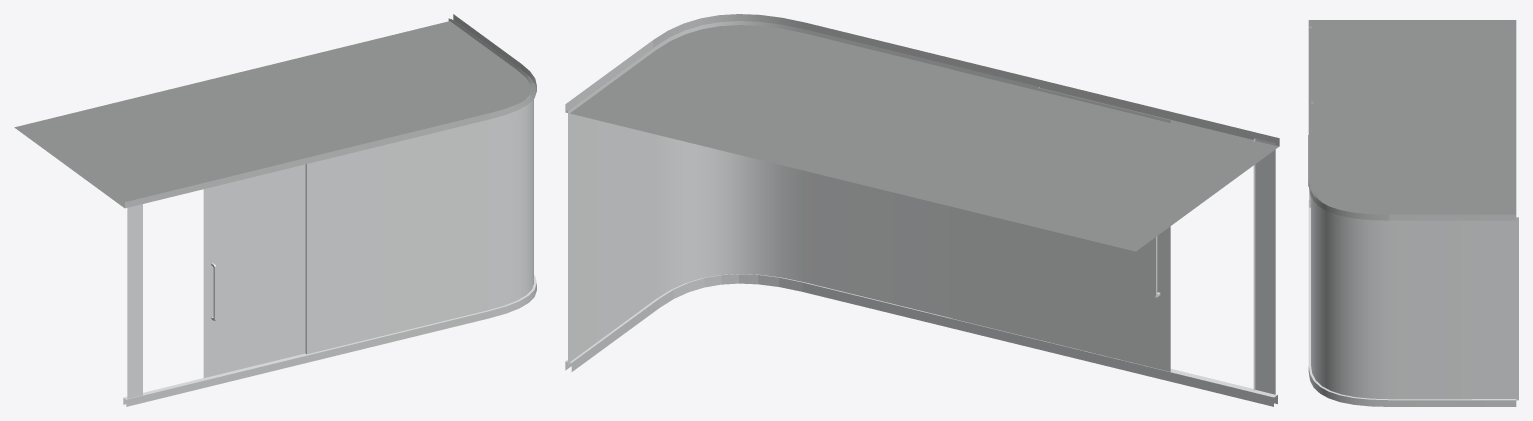
The model's file is M_bolifang01.FBX.
3 renders of one model, left to right at view 1: azimuth 30°, elevation 25°; view 2: azimuth 150°, elevation 25°; view 3: azimuth 270°, elevation 25°, orthographic. The views are drawn at different scales.
Parts seen in each view (by area): view 1: M_bolifang01_02, M_bolifang01_01; view 2: M_bolifang01_01, M_bolifang01_02; view 3: M_bolifang01_01, M_bolifang01_02.
Boxes of the visible parts, x1,y1,x2,y2 form: M_bolifang01_02: (127, 18, 533, 398); M_bolifang01_01: (14, 14, 536, 406); M_bolifang01_01: (565, 14, 1279, 406); M_bolifang01_02: (568, 21, 1275, 394); M_bolifang01_01: (1308, 20, 1516, 406); M_bolifang01_02: (1309, 20, 1518, 400).
Bounding box in the file's own units: 8.86 × 3.95 × 3.93.
